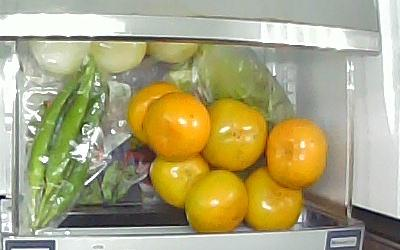persimmon: (202, 98, 267, 171), (142, 92, 210, 161), (266, 119, 327, 189), (185, 170, 248, 233), (244, 167, 303, 232), (148, 151, 210, 208), (129, 83, 184, 146)
